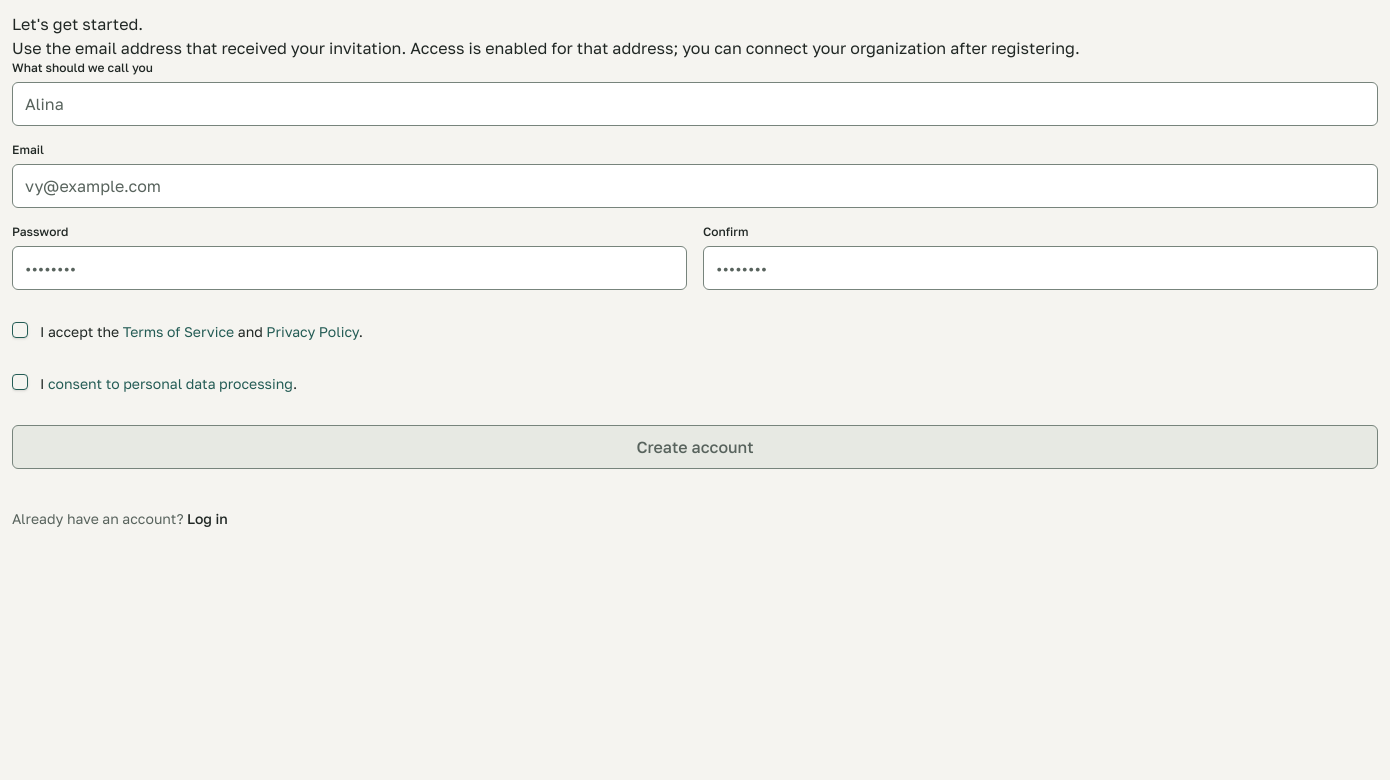
Test case: shows actionable invitation errors without losing input in en
In the field with id "name": [695, 104] box [12,82,1378,126], type "Owner"
In the field with id "email": [695, 186] box [12,164,1378,208], type "owner@example.org"
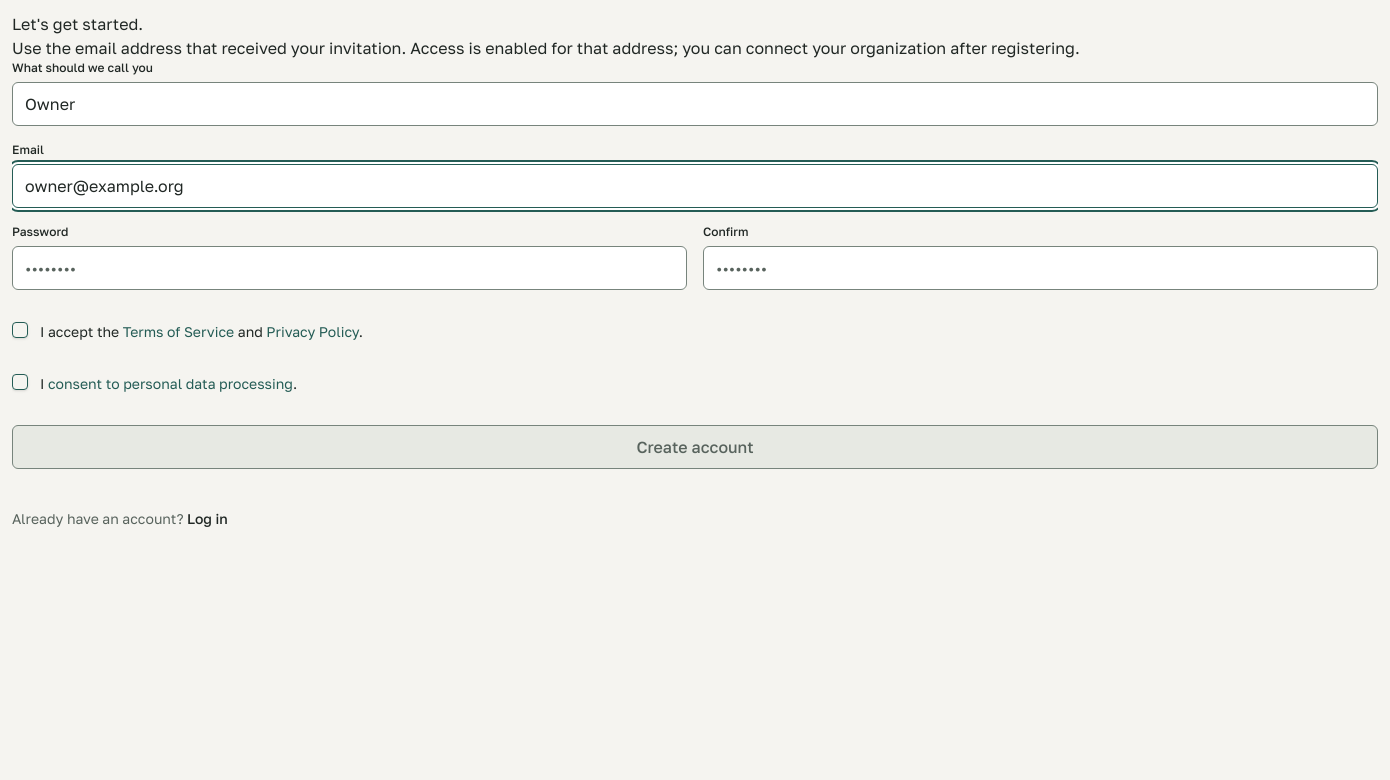
In the password field labelled "Password": [350, 268] box [12,246,687,290], type "12345678"
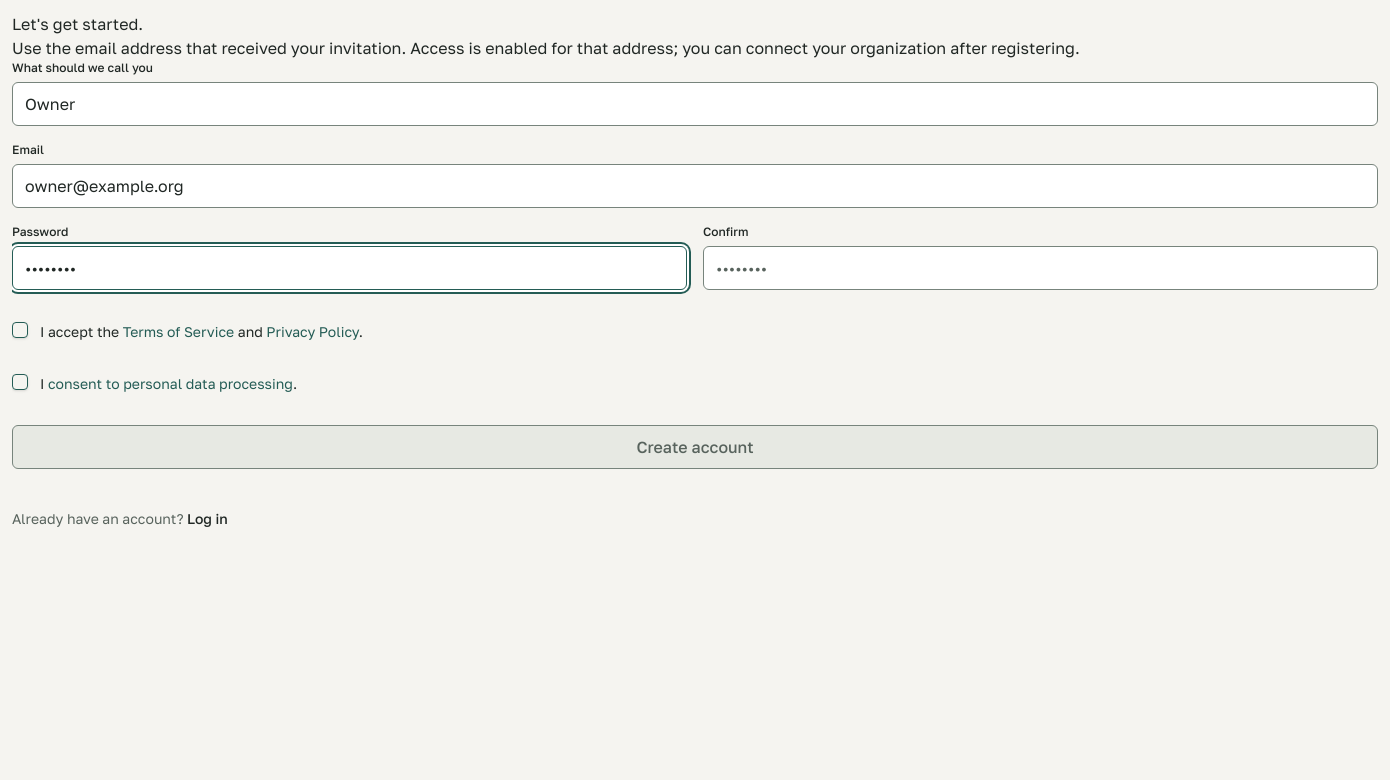
In the password field with id "confirmPassword": [1040, 268] box [703,246,1378,290], type "12345678"
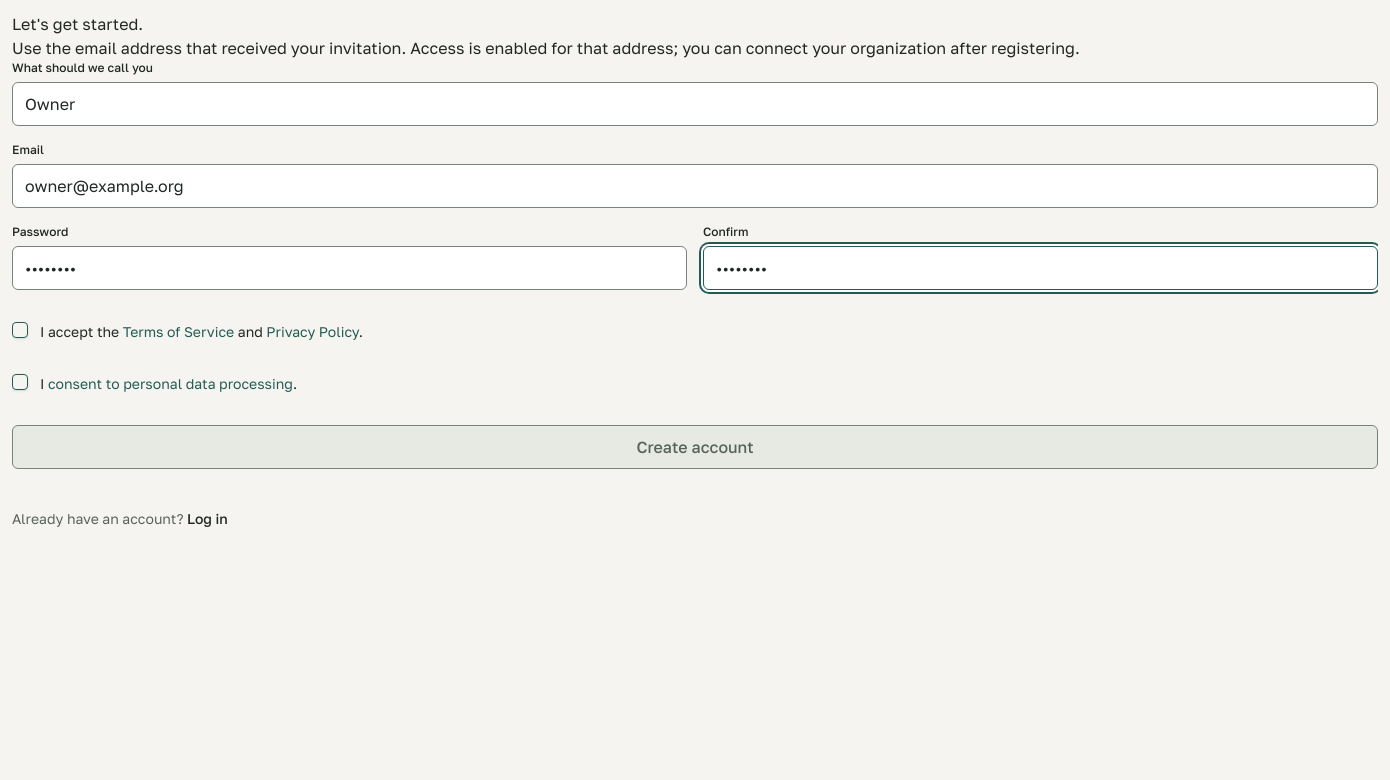
Click the checkbox next to "I accept the": [20, 330] box [12,322,28,338]
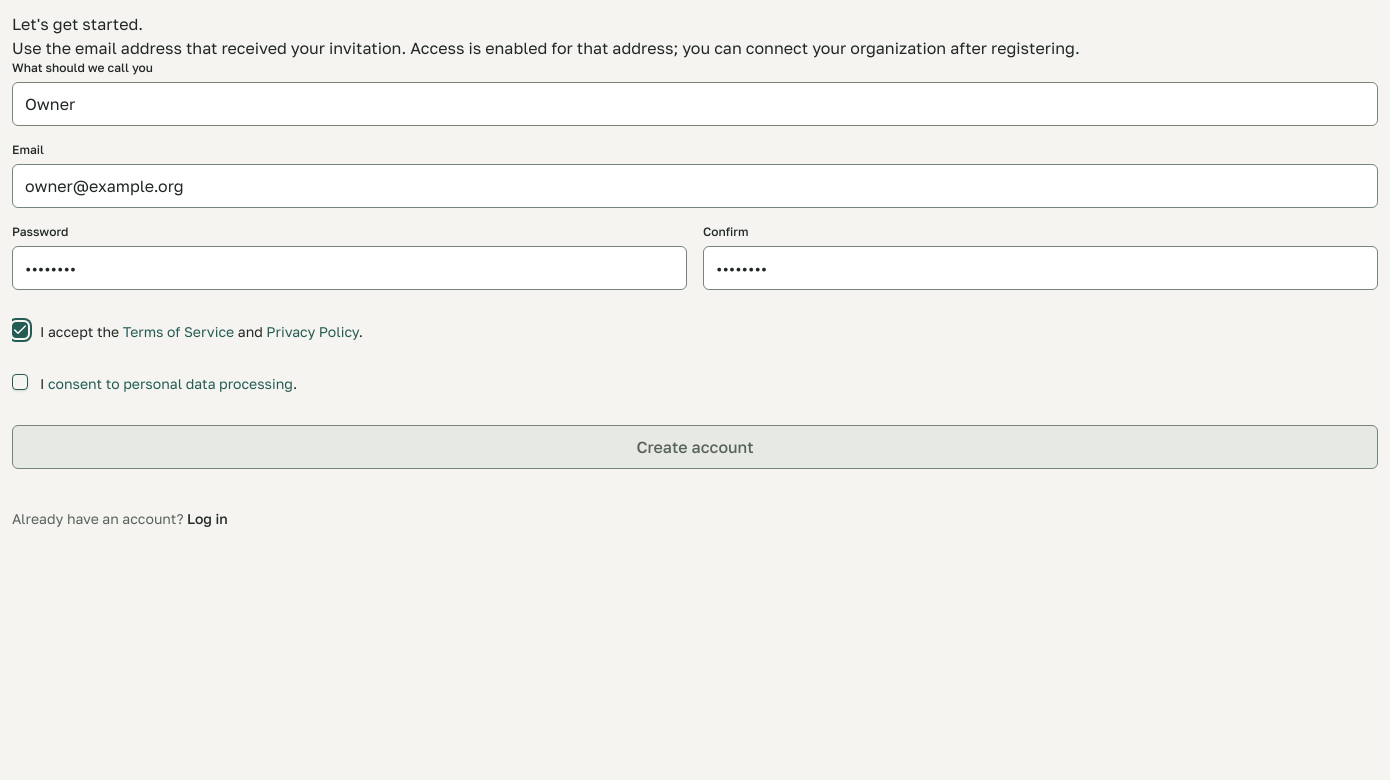
Click the checkbox in the row of "consent to personal data processing": [20, 382] box [12,374,28,390]
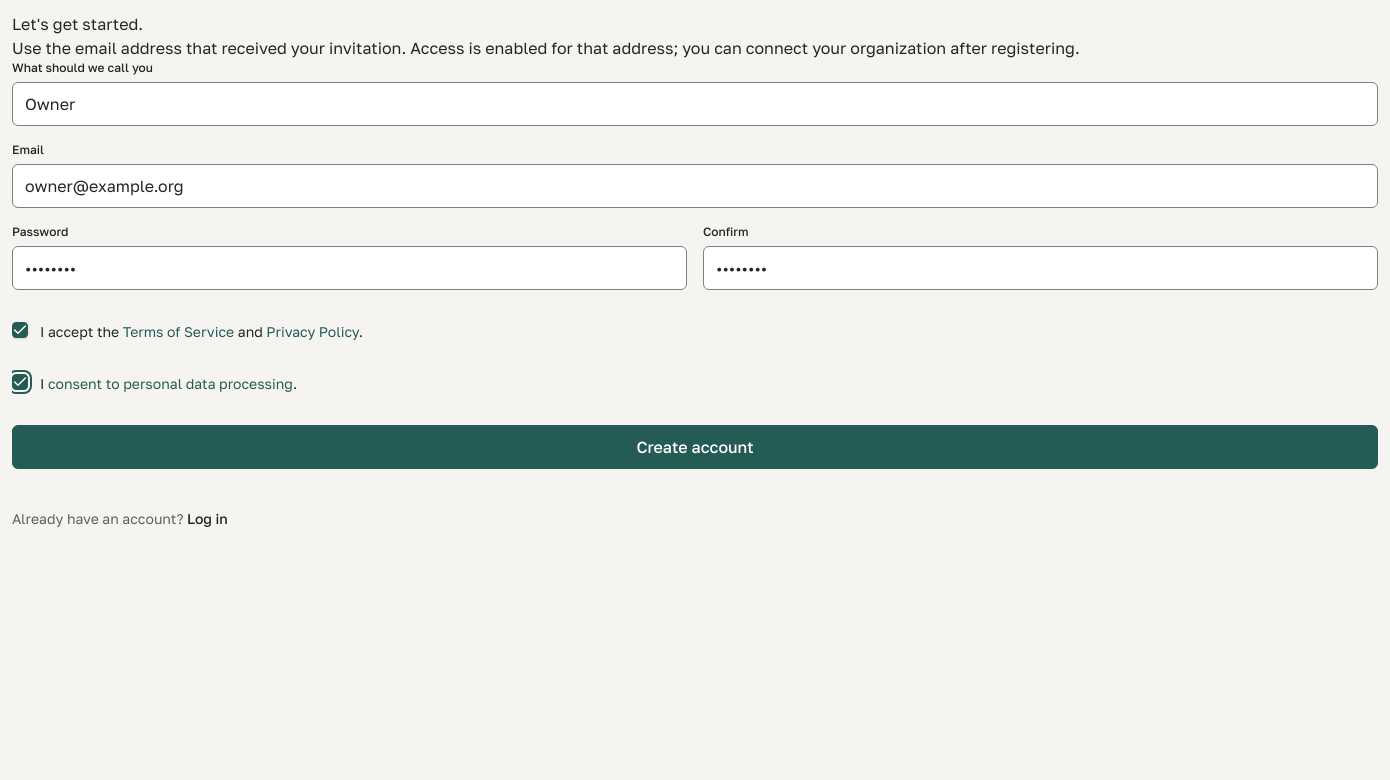
Click the submit button: [695, 447] box [12,425,1378,469]
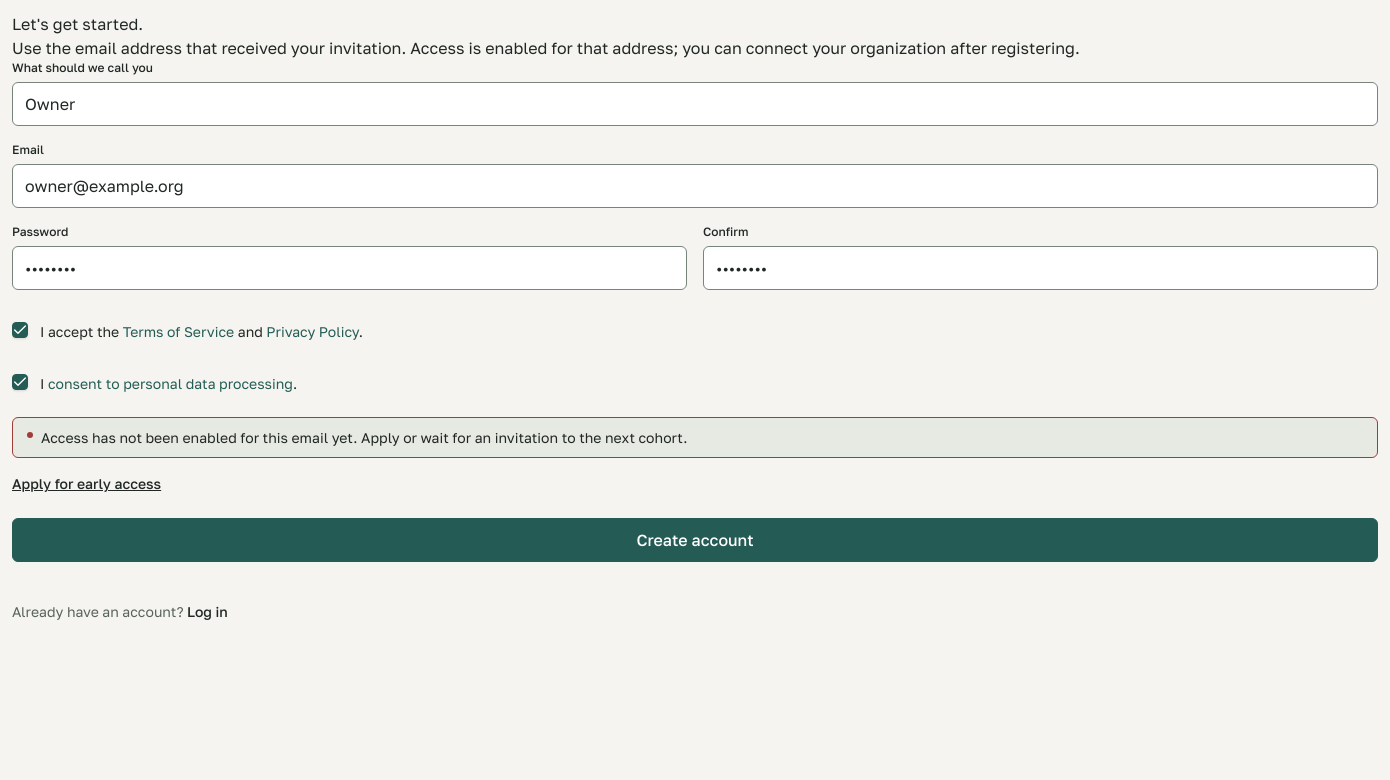
Expected: the message shows "Access has not been enabled for this email yet. Apply or wait for an invitation to the next cohort.", [41,429,688,446]
